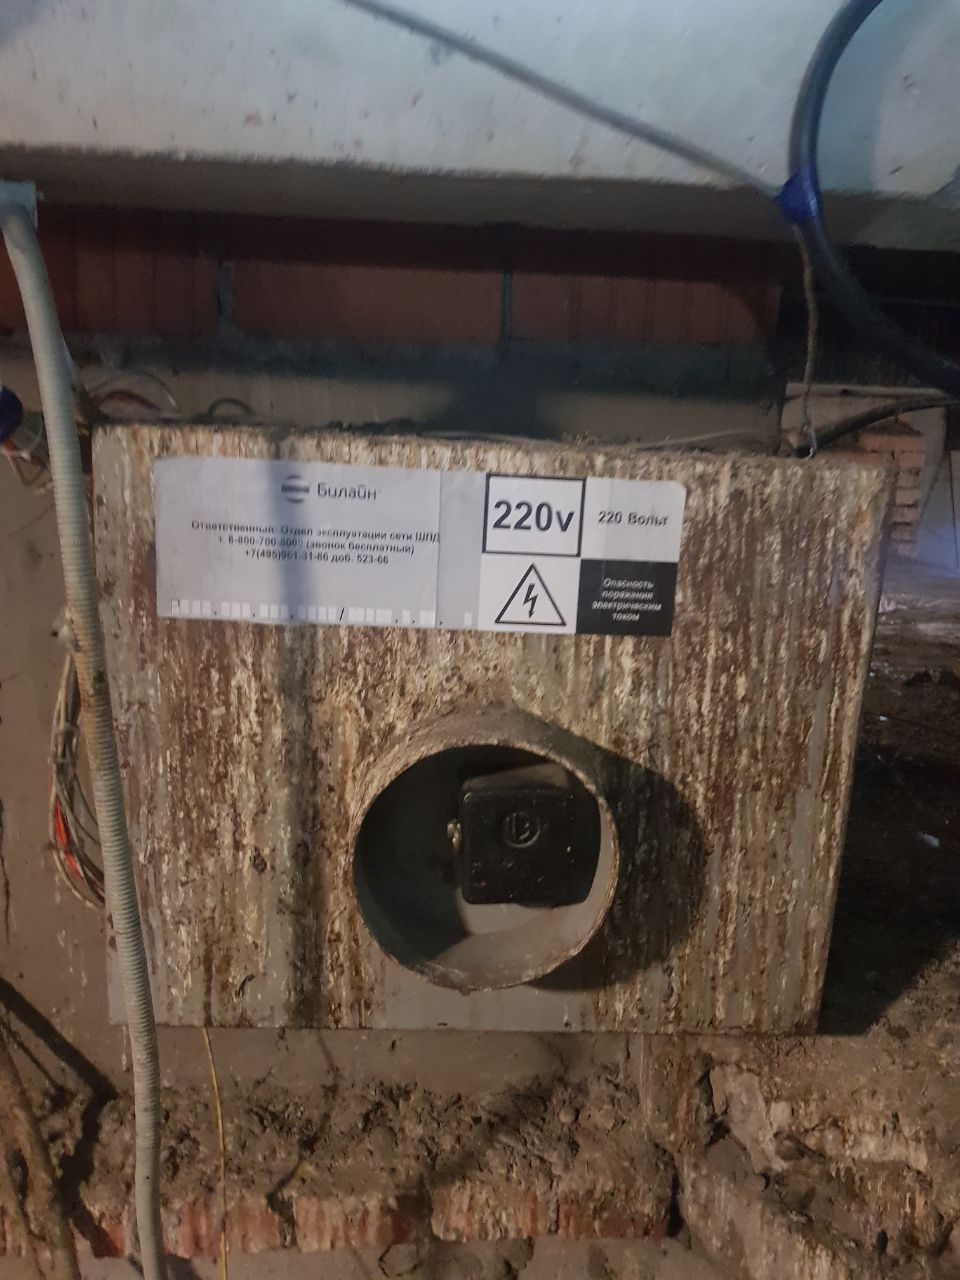shta-3: (90, 415, 898, 956)
